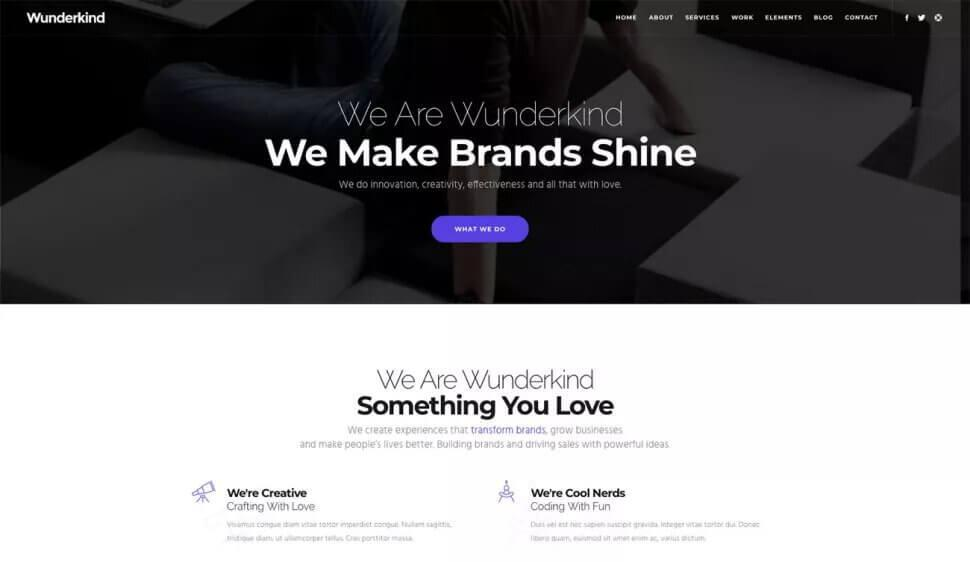button: (433, 214, 529, 245)
icon: (904, 12, 914, 25), (934, 13, 945, 24), (917, 14, 927, 24)
